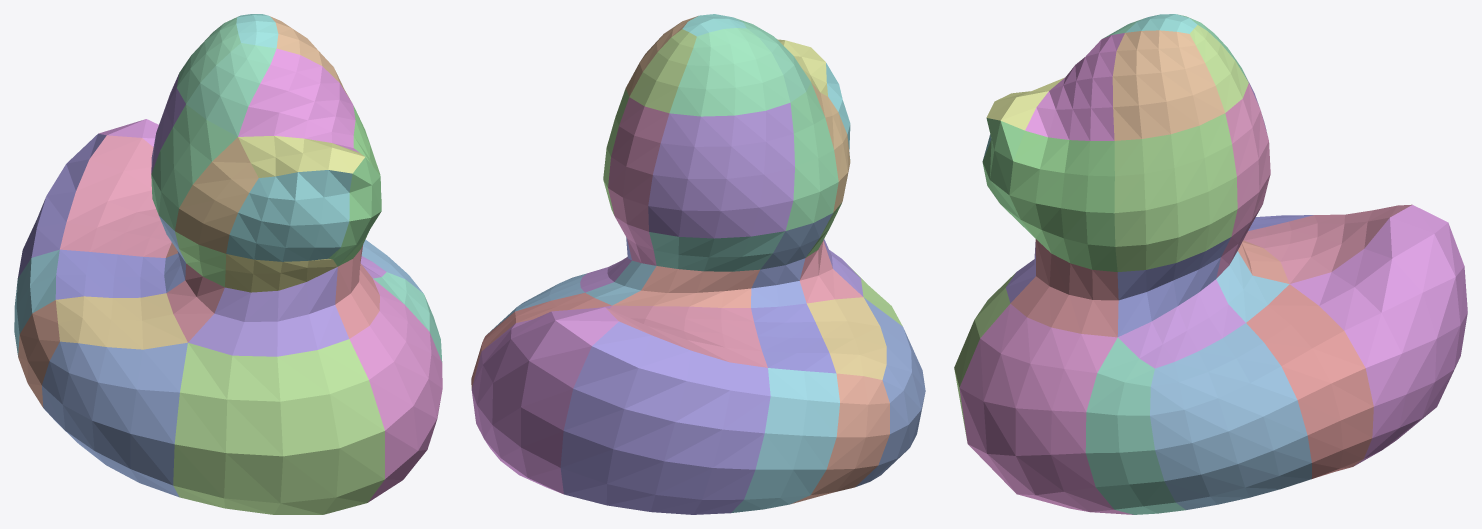
The model's file is duck_quad0_patch_color.obj.
3 renders of one model, left to right at view 1: azimuth 30°, elevation 25°; view 2: azimuth 150°, elevation 25°; view 3: azimuth 270°, elevation 25°, orthographic. The views are drawn at different scales.
Size of the model in its own units: 69.14 by 77.82 by 80.95.
